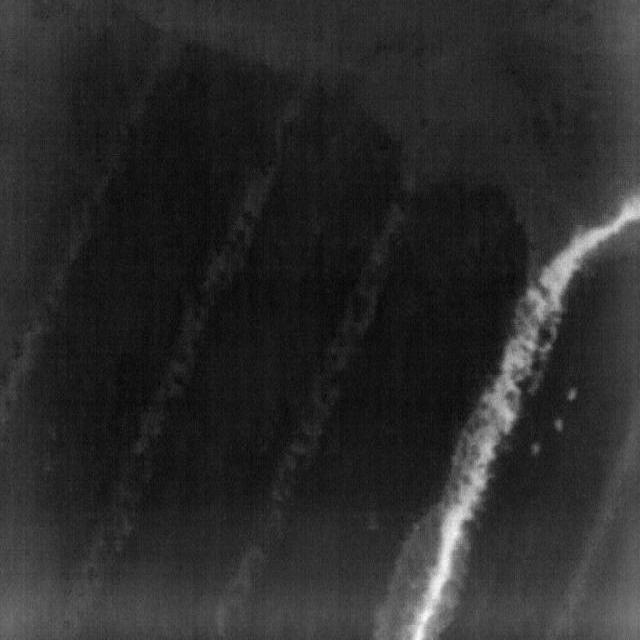deer: (567, 386, 578, 402), (554, 419, 564, 432), (532, 441, 540, 455)
